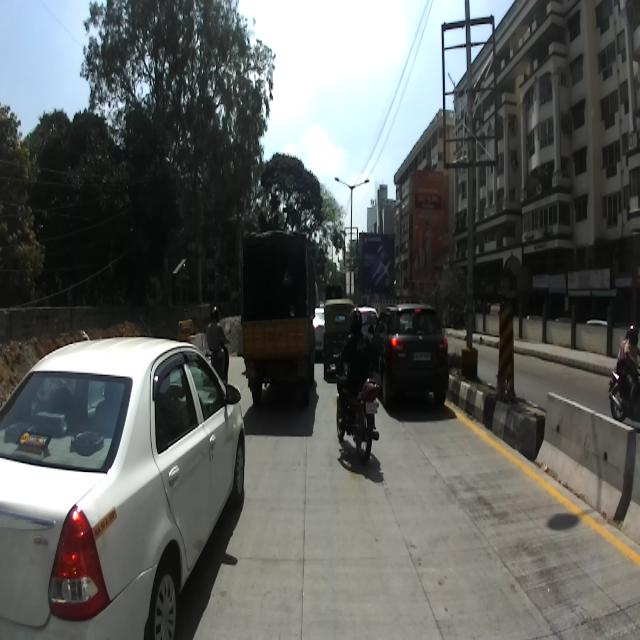car ahead at: (0, 343, 252, 640), (373, 301, 452, 404)
motorcycle ahead at: (332, 374, 386, 471)
truck ahead at: (232, 221, 315, 417)
